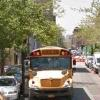Bus: (24, 42, 79, 100)
